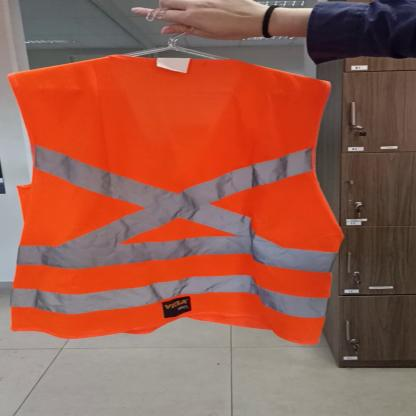colete: (1, 54, 347, 346)
